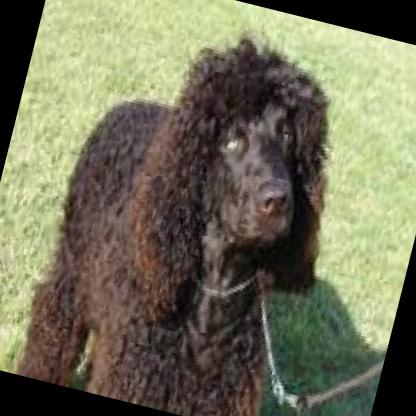Irish_water_spaniel: (11, 0, 380, 416)
